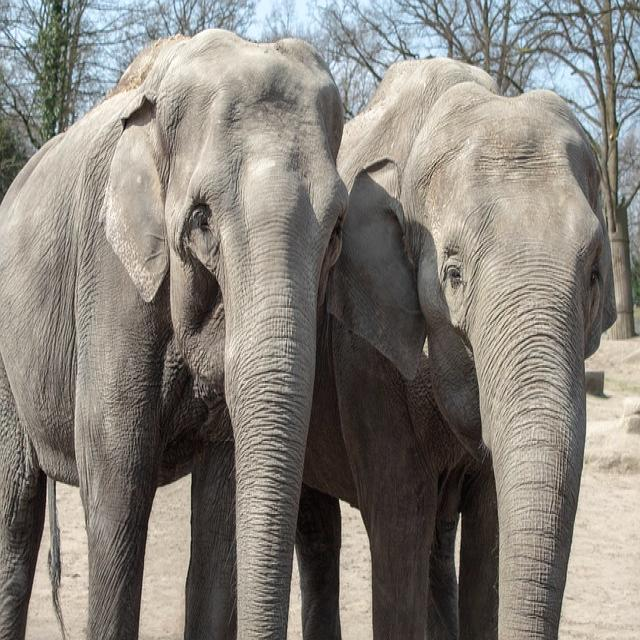FIL: (1, 28, 329, 640), (330, 47, 628, 640)
